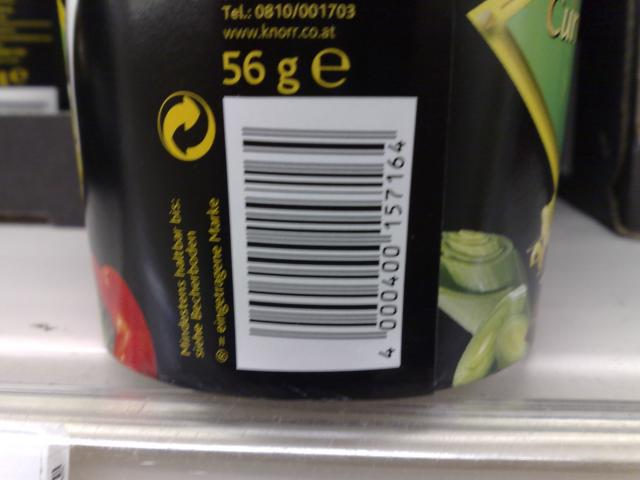Barkod: (240, 124, 386, 338)
